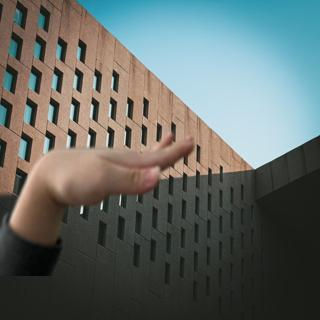Wait: (16, 127, 200, 217)
